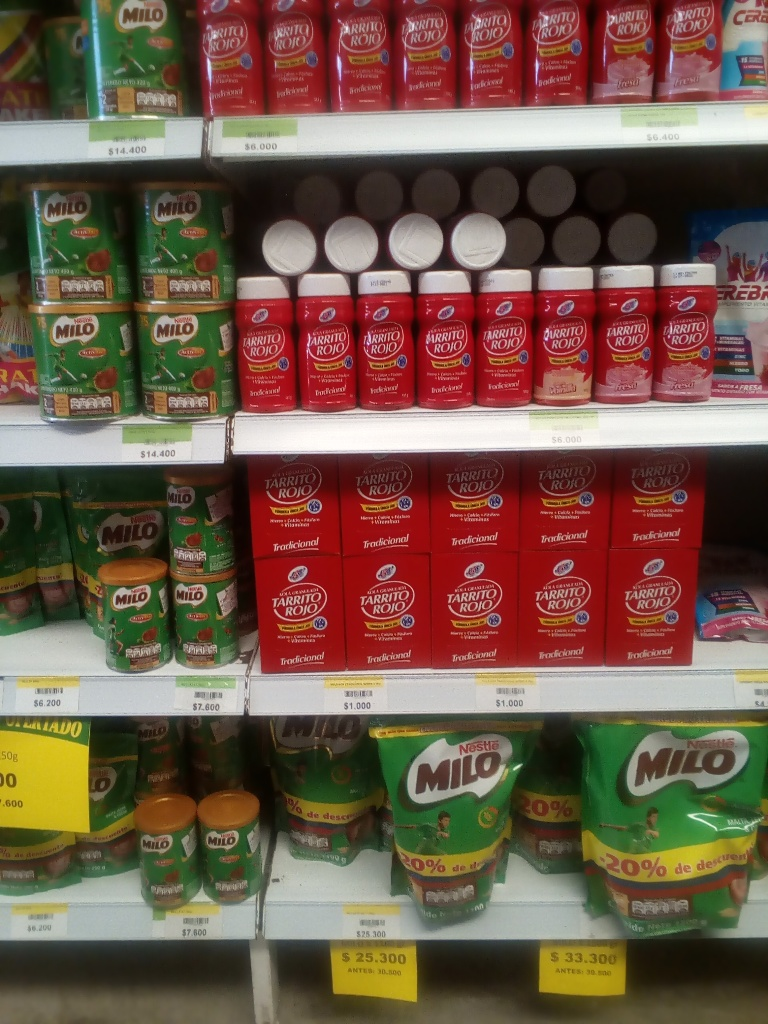COL0170203LAT20000: (167, 569, 246, 670)
